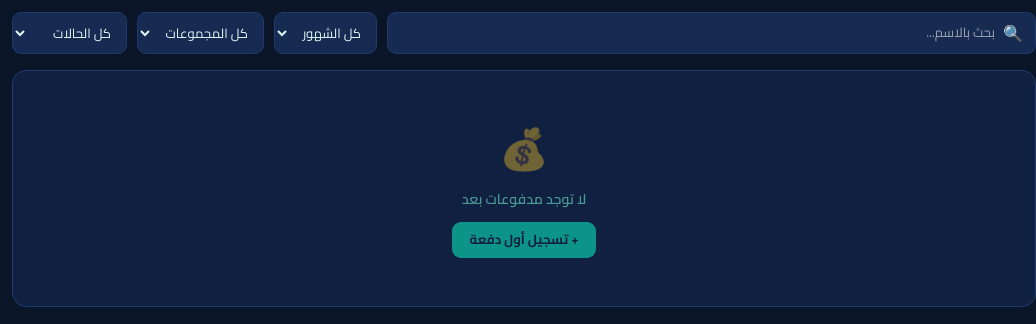
Scenario: PaymentHistory › empty state WITH filters shows "no results" instead of the CTA
Select "فبراير" in the 3rd dropdown showing "كل الشهور" at [326, 33], box x1=274 y1=12 x2=377 y2=54
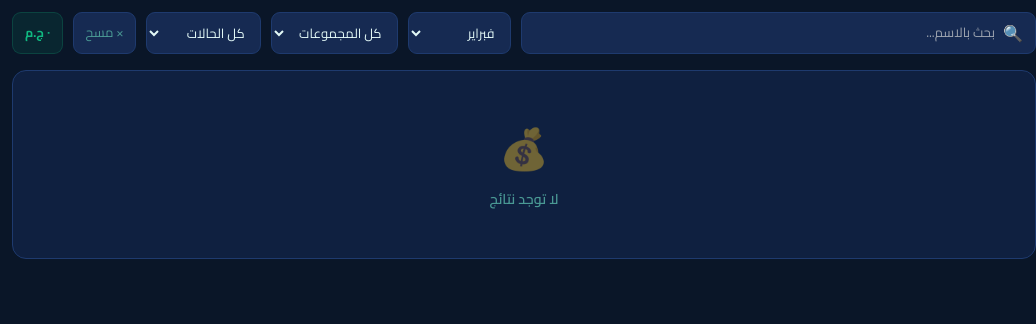
Check: the text "لا توجد نتائج" is shown, box x1=489 y1=186 x2=558 y2=212
Check: the button "+ تسجيل أول دفعة" is gone
